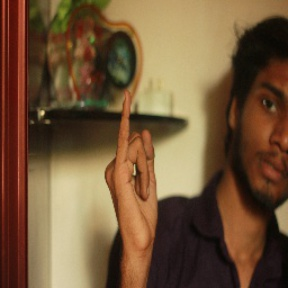I: (105, 92, 164, 252)
